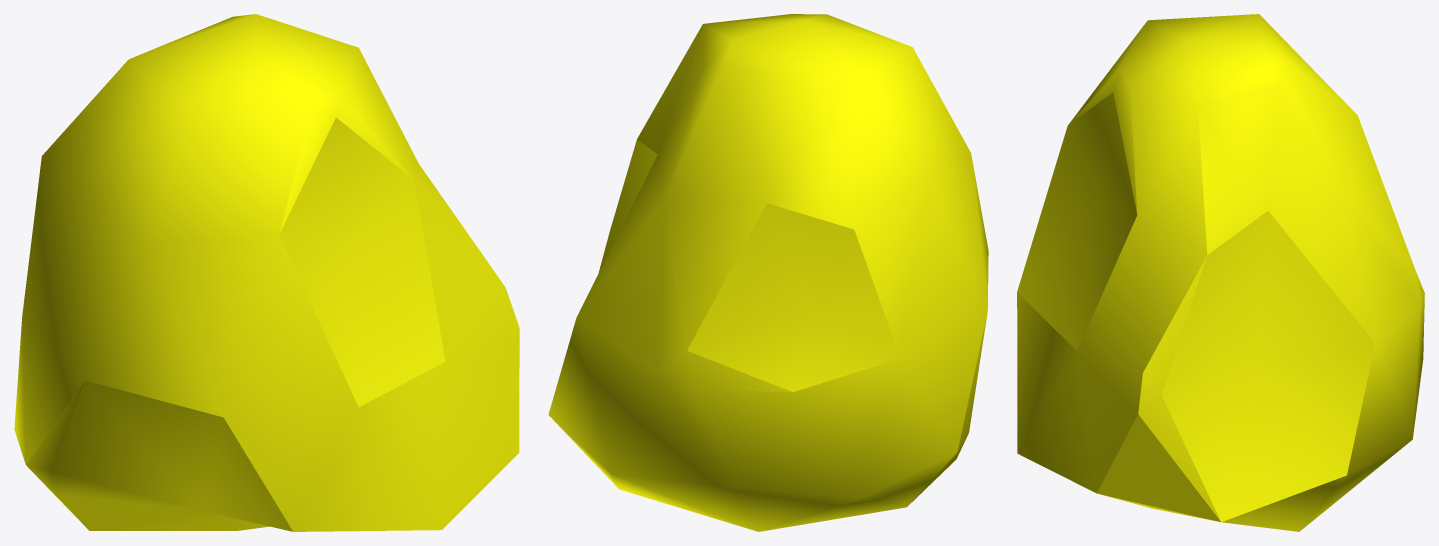
File: kaykit-gold-nugget-large.glb
3 renders of one model, left to right at view 1: azimuth 30°, elevation 25°; view 2: azimuth 150°, elevation 25°; view 3: azimuth 270°, elevation 25°, orthographic. The views are drawn at different scales.
Parts seen in each view (by area): view 1: Gold_Nugget_Large; view 2: Gold_Nugget_Large; view 3: Gold_Nugget_Large.
Part boxes in pixels (x1=…): Gold_Nugget_Large: x1=14, y1=14, x2=519, y2=531; Gold_Nugget_Large: x1=548, y1=14, x2=988, y2=531; Gold_Nugget_Large: x1=1017, y1=14, x2=1424, y2=531.
Size of the model in its own units: 0.4271 by 0.4656 by 0.3947.
